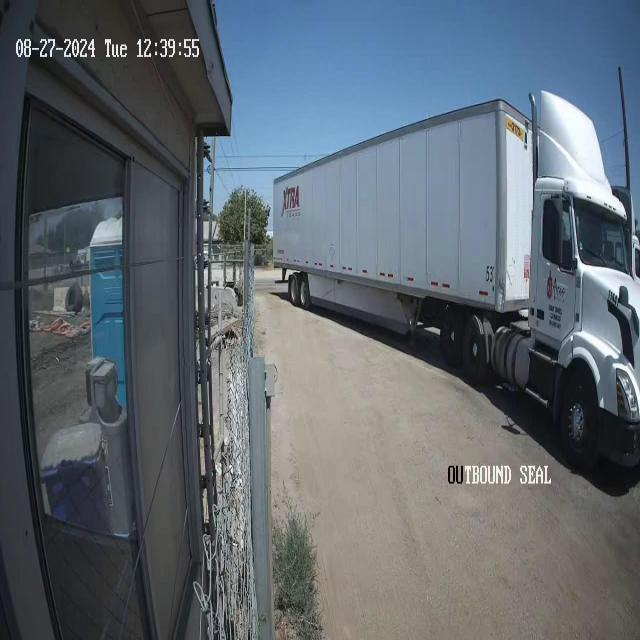TRUCK_IN: (271, 71, 639, 473)
